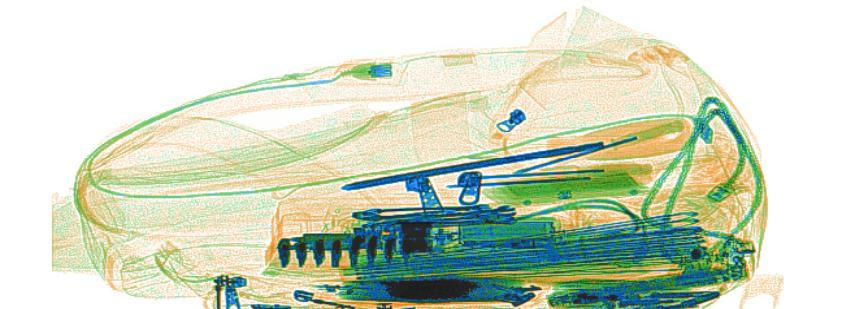battery: (455, 219, 555, 248)
